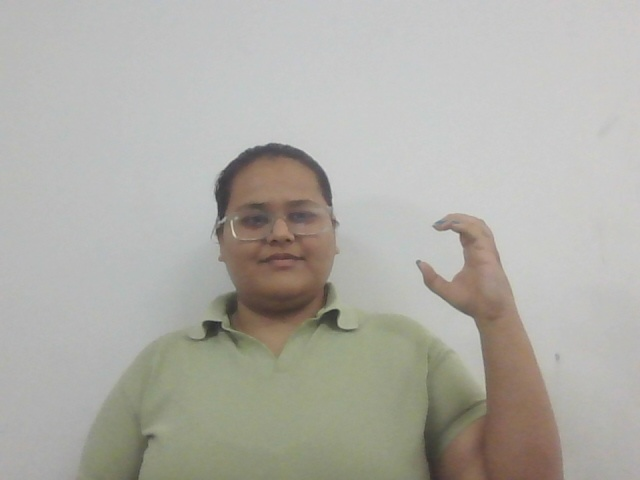C: (413, 207, 517, 320)
